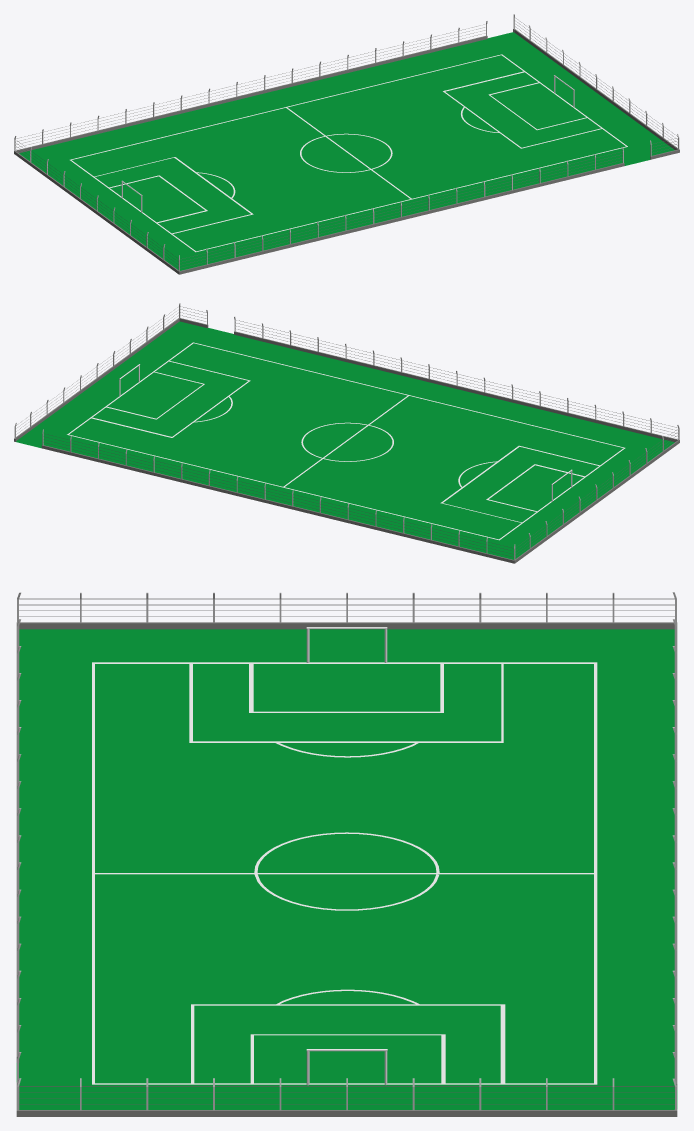
The model's file is Soccer-camp.fbx.
3 views of the same model, one above another, from view 1: azimuth 30°, elevation 25°; view 2: azimuth 150°, elevation 25°; view 3: azimuth 270°, elevation 25° (orthographic). The views are drawn at different scales.
Visible parts, largest first — view 1: Base-MB-36m; view 2: Base-MB-36m; view 3: Base-MB-36m.
Part boxes in pixels (<box>): Base-MB-36m: <box>14,14,679,274</box>; Base-MB-36m: <box>14,303,679,563</box>; Base-MB-36m: <box>16,592,677,1116</box>.
Size of what is drawn, in the model's own units: 70 by 2.45 by 40.
